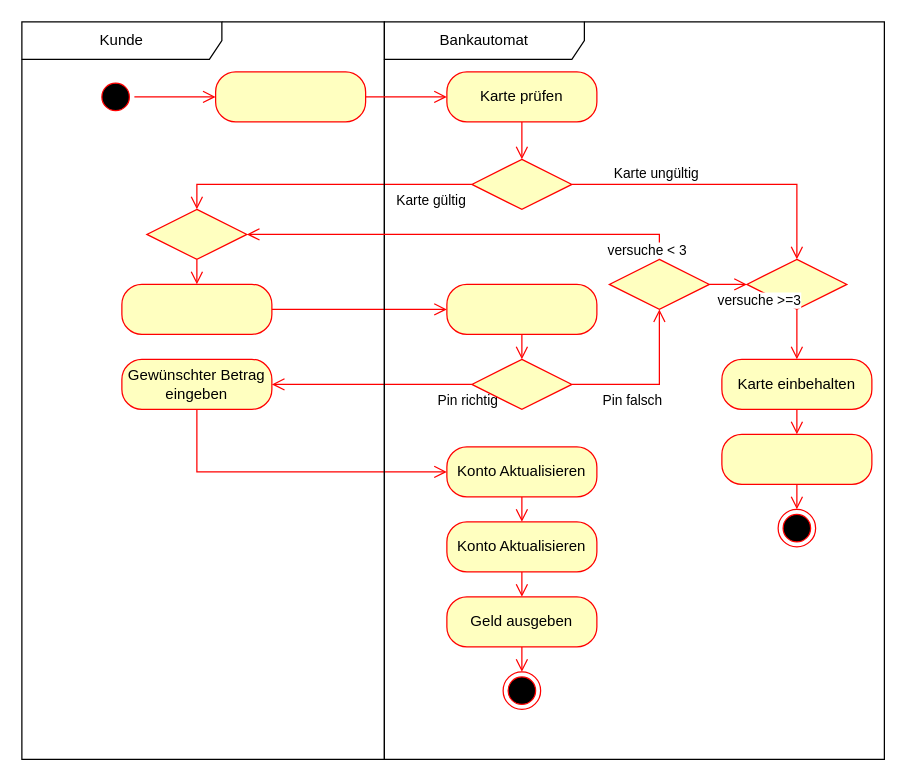
Image size: 906x781. Some labels were removed from this diagram. Each missing label, with the centre of its shape:
Karte eingeben: point 290,96
PIN eingeben: point 196,308
Pin überprüfen: point 521,308
Vorgang abgebrochen: point 796,458
